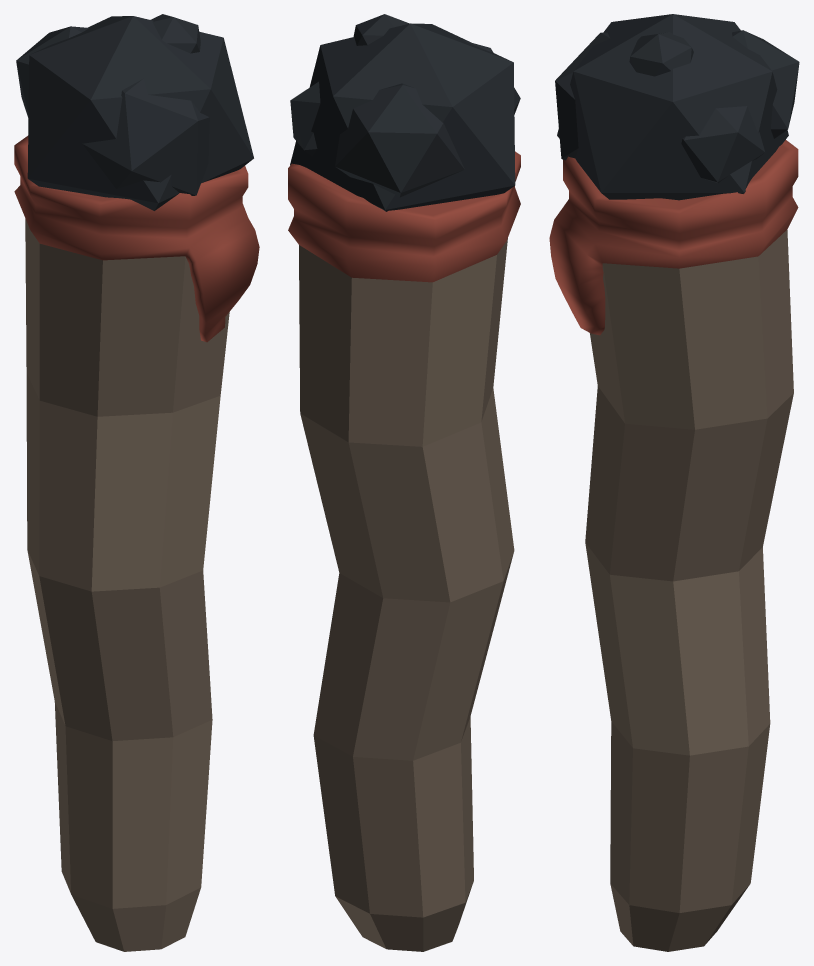
File: Torch.fbx
The picture shows the model from 3 angles, left to right: view 1: azimuth 30°, elevation 25°; view 2: azimuth 150°, elevation 25°; view 3: azimuth 270°, elevation 25°; orthographic projection.
Parts seen in each view (by area): view 1: Torch; view 2: Torch; view 3: Torch.
Part boxes in pixels (<box>): Torch: <box>14,14,259,951</box>; Torch: <box>288,14,520,951</box>; Torch: <box>549,14,799,951</box>.
Size of the model in its own units: 82.11 by 343 by 84.79.
